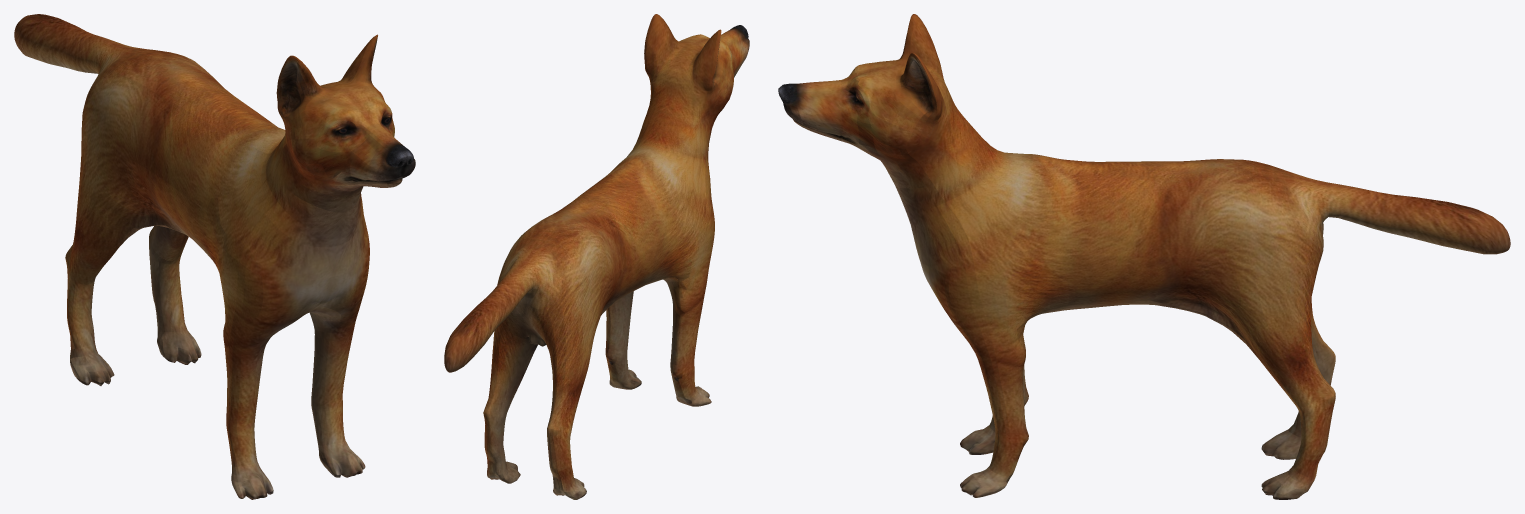
Rendered from doggie4.obj.
The picture shows the model from 3 angles, left to right: view 1: azimuth 30°, elevation 25°; view 2: azimuth 150°, elevation 25°; view 3: azimuth 270°, elevation 25°; orthographic projection. The views are drawn at different scales.
Visible parts, largest first — view 1: _Dog_v1_l3:Dog_body; view 2: _Dog_v1_l3:Dog_body; view 3: _Dog_v1_l3:Dog_body.
Boxes of the visible parts, x1,y1,x2,y2 form: _Dog_v1_l3:Dog_body: (14, 14, 415, 499); _Dog_v1_l3:Dog_body: (444, 14, 749, 499); _Dog_v1_l3:Dog_body: (778, 14, 1510, 499).
Bounding box in the file's own units: 0.1492 × 0.5249 × 0.7906.
Materials: 1 (1 with a texture image).
